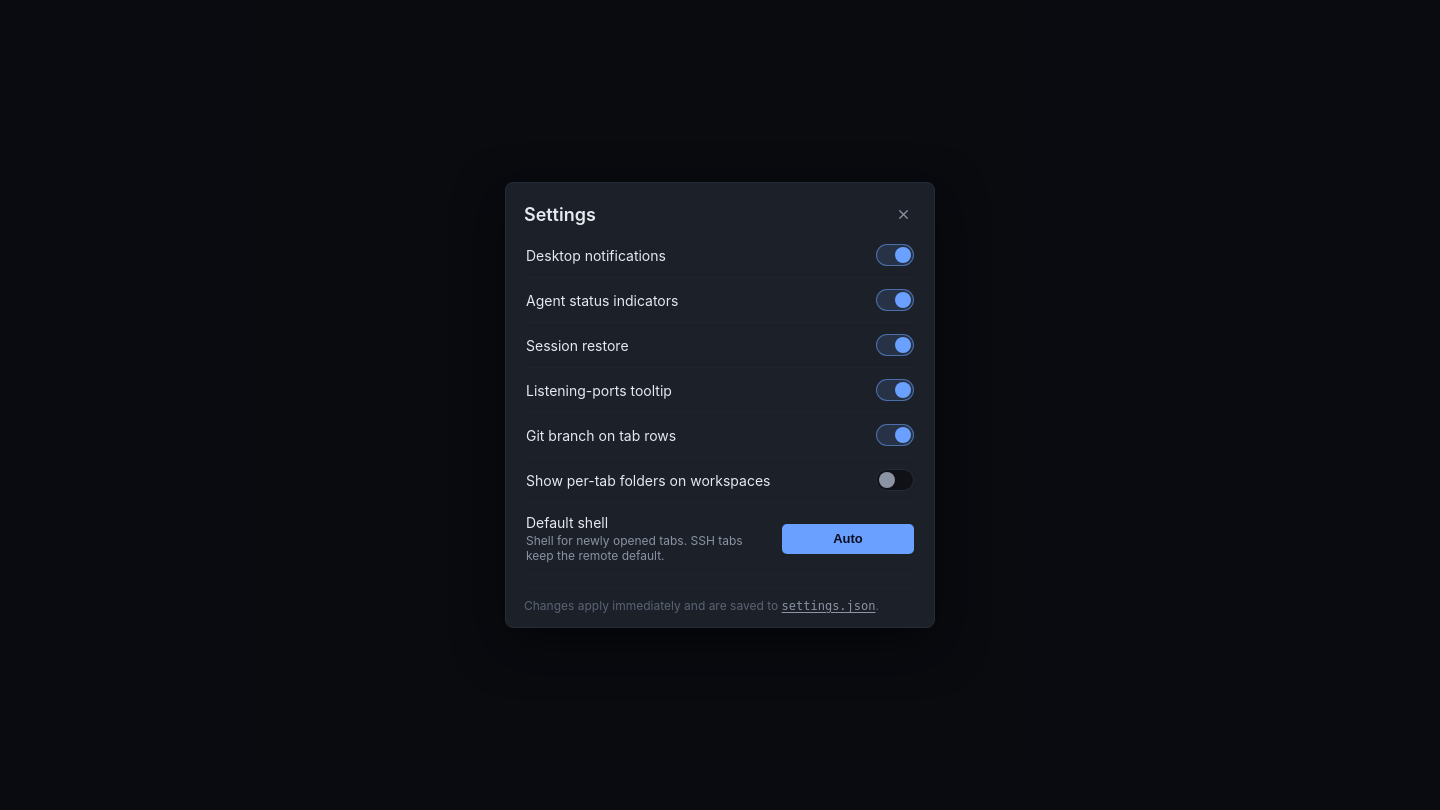
Test: SettingsDialog › reports a picked shell as defaultShell=launchCommand, verbatim, and closes (#77)
The width and height of the screenshot is (1440, 810).
Click the button with test id "shell-picker".
click(848, 538)  # box [782,524,914,554]
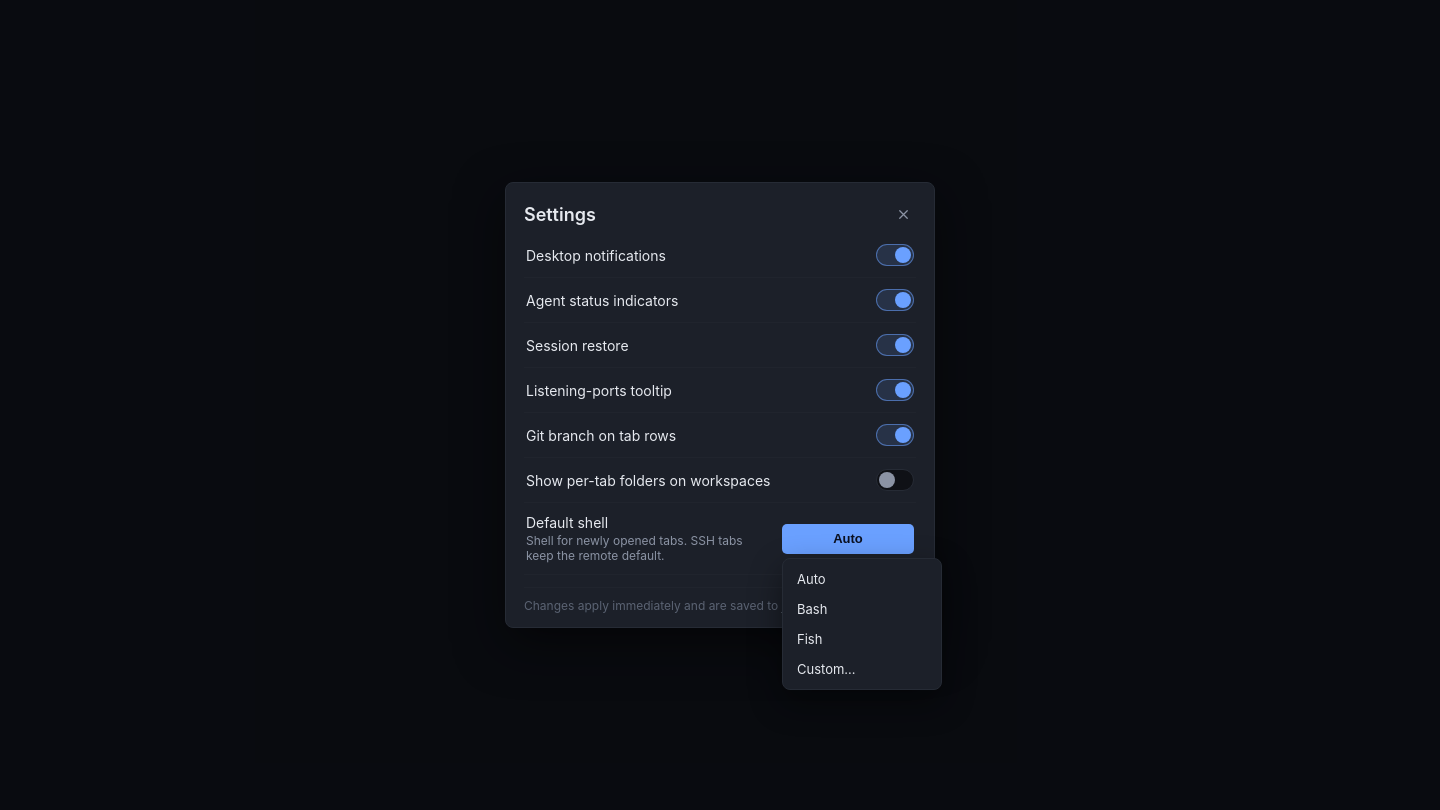
Click the menu item "Fish".
click(862, 638)  # box [788,624,936,654]
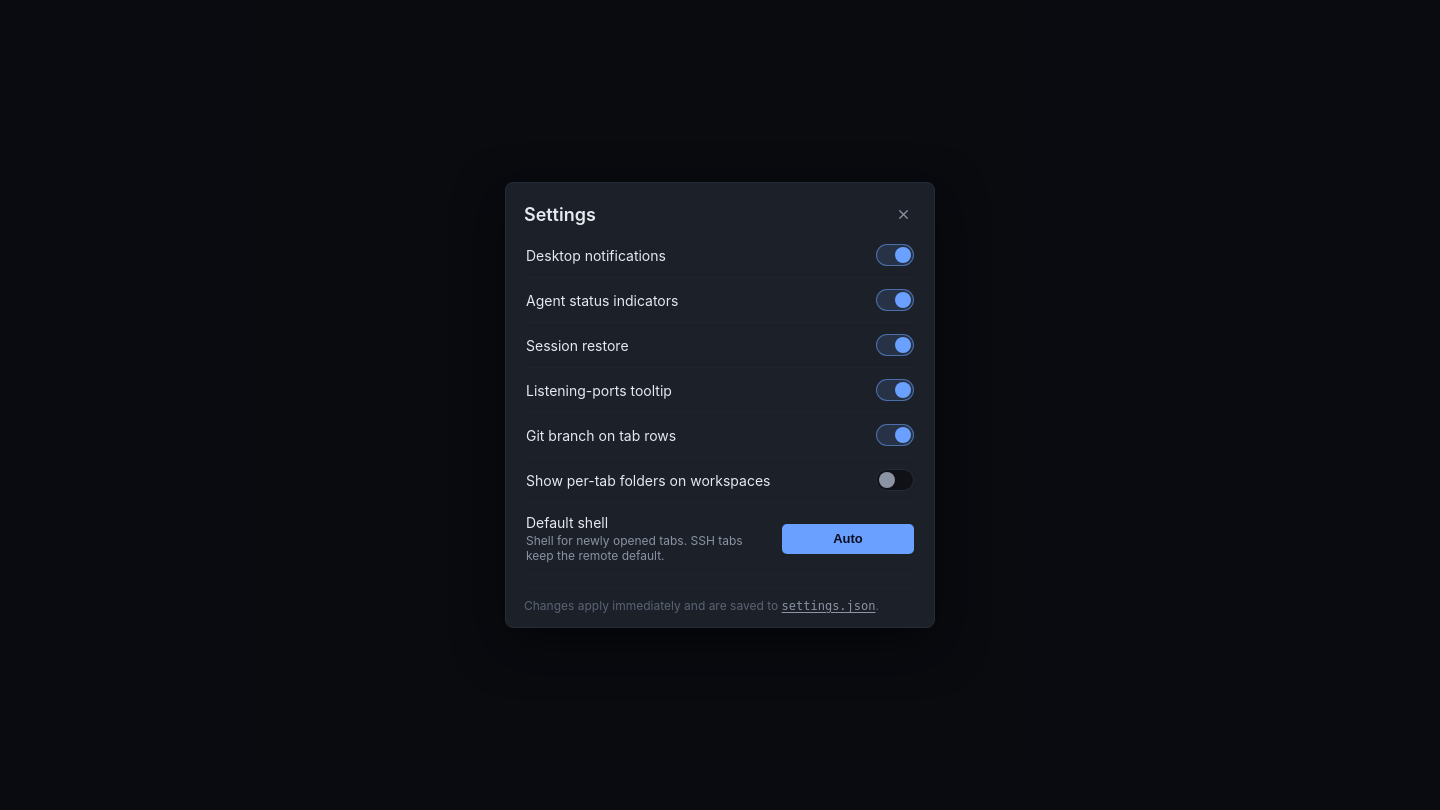
Result: the menu with test id "shell-picker-menu" is gone
